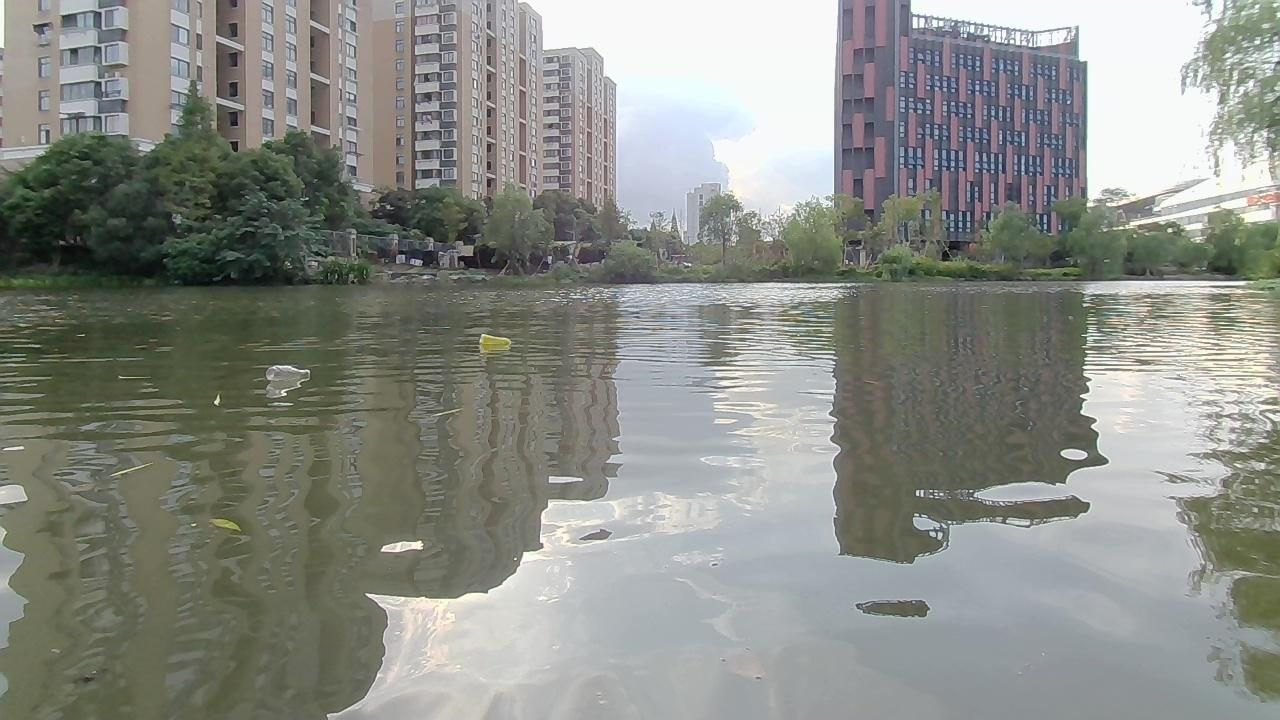bottle: (263, 361, 316, 382), (475, 329, 518, 350)
